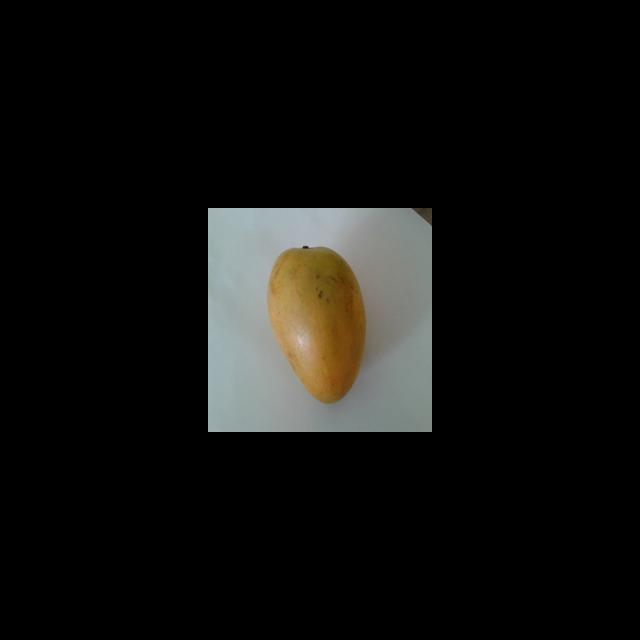mango: (266, 244, 366, 403)
